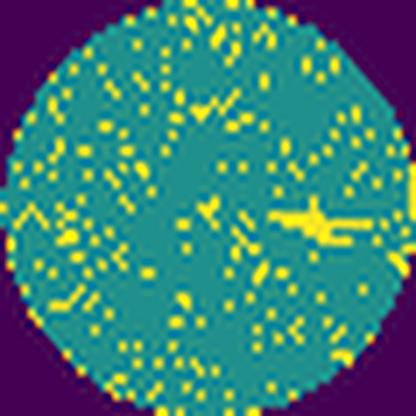Loc: (266, 197, 372, 247)
